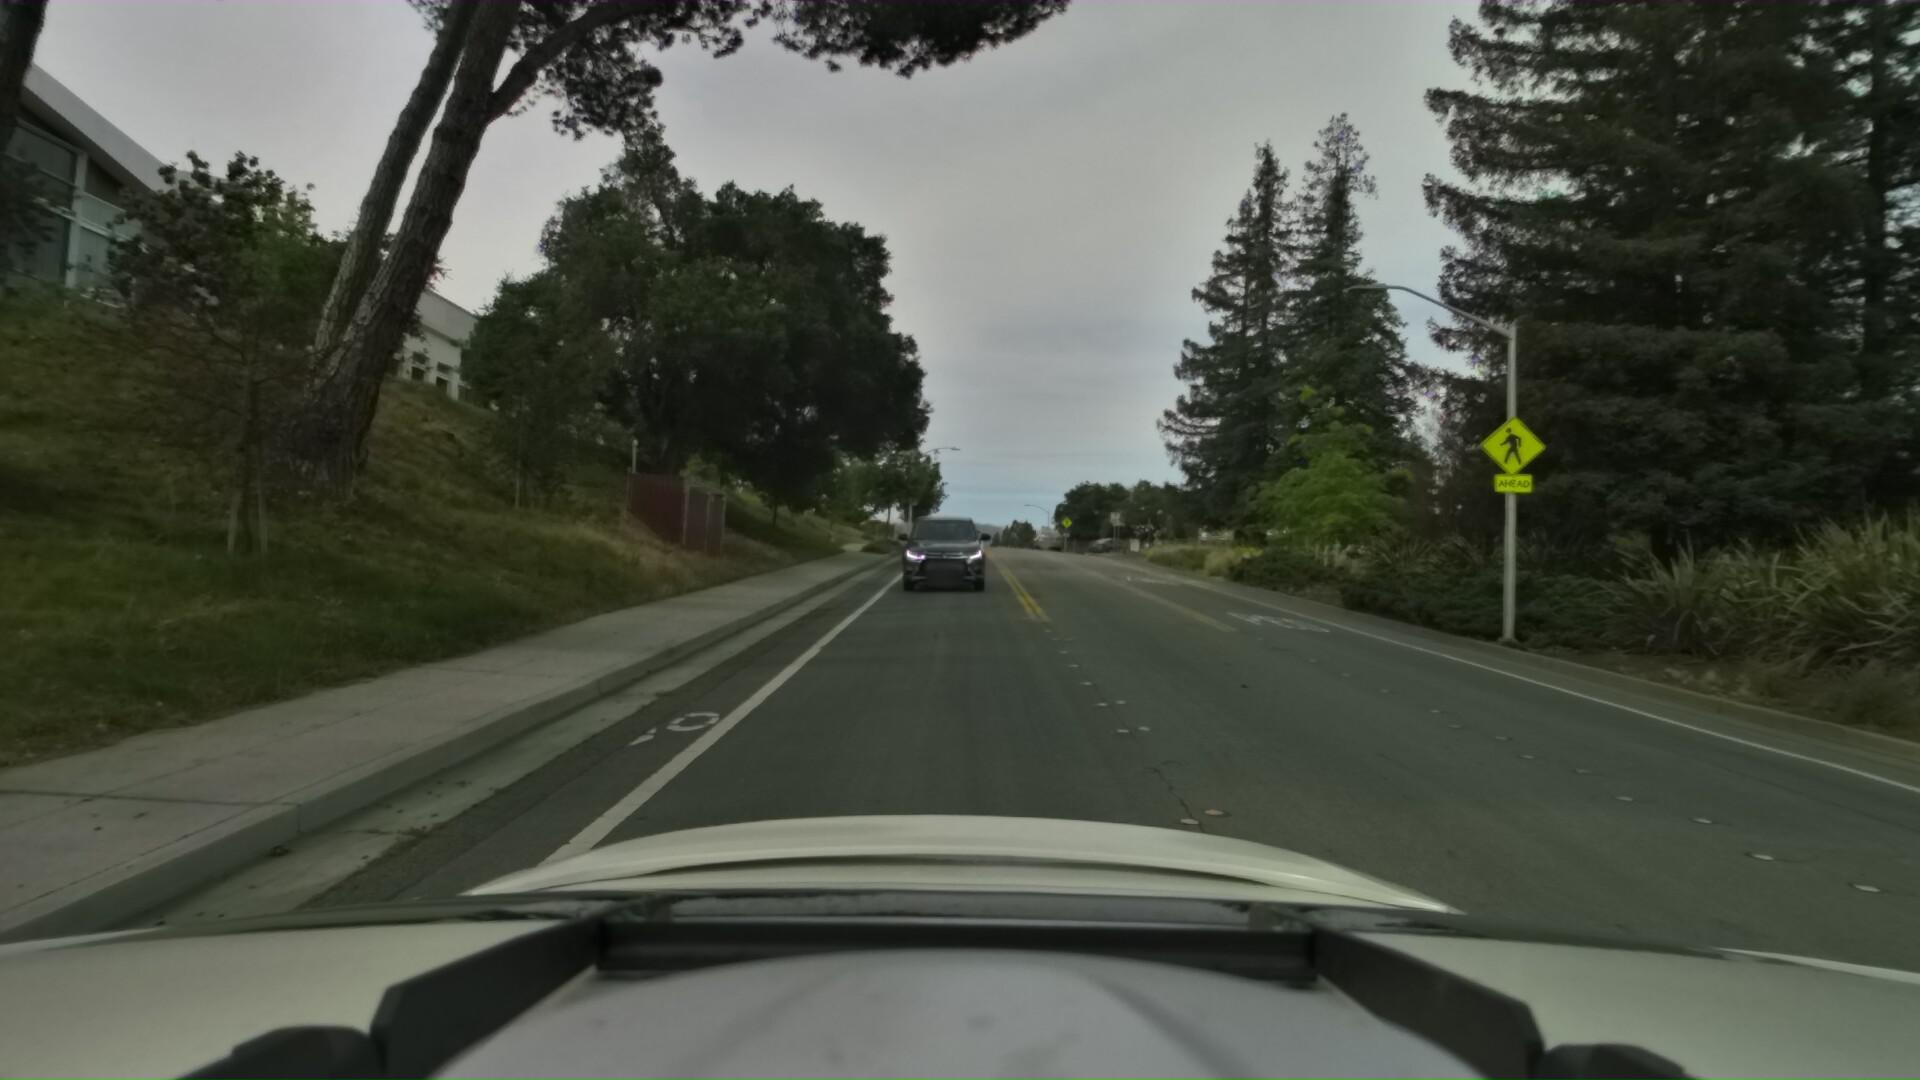car: (887, 492, 988, 597), (1030, 520, 1063, 547)
